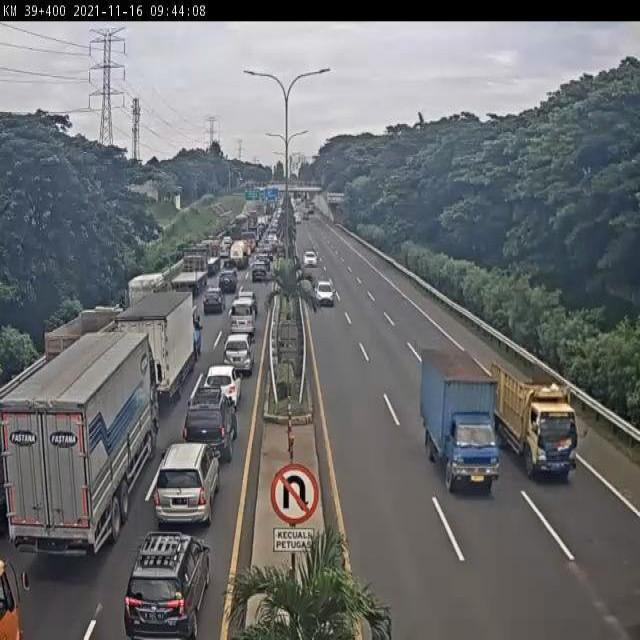car: (118, 528, 225, 640), (156, 434, 219, 526), (184, 384, 236, 464), (225, 328, 265, 372), (201, 360, 240, 404), (313, 275, 347, 324), (226, 294, 263, 334), (214, 264, 244, 297), (203, 286, 227, 314), (304, 245, 323, 271), (251, 261, 273, 283)
truck-l-: (0, 319, 160, 565), (174, 247, 208, 296)
truck-m-: (414, 342, 511, 509), (480, 342, 592, 486), (121, 284, 197, 409), (41, 299, 131, 404), (125, 272, 167, 325)
